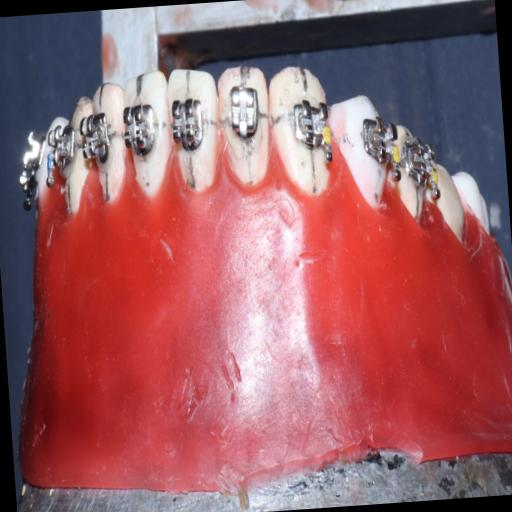correct_brace: (166, 88, 210, 158)
incorrect_brace: (213, 54, 278, 191), (286, 93, 339, 174), (223, 76, 265, 144)
